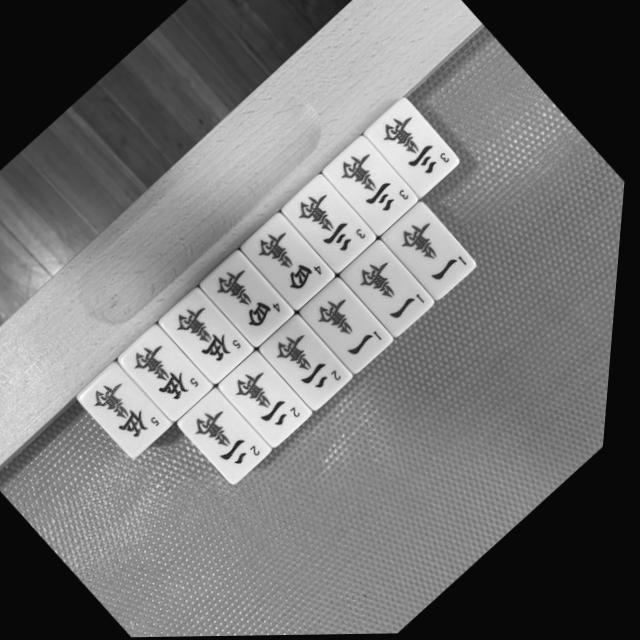sc1: (340, 238, 445, 339), (299, 276, 404, 376), (381, 202, 486, 302)
sc2: (219, 350, 325, 451), (180, 386, 285, 487), (259, 313, 365, 413)
sc3: (279, 172, 387, 276), (321, 134, 428, 238), (362, 97, 469, 200)
sc4: (239, 210, 346, 313), (199, 249, 304, 349)
sc5: (78, 360, 183, 460), (119, 323, 224, 423), (160, 287, 263, 386)
